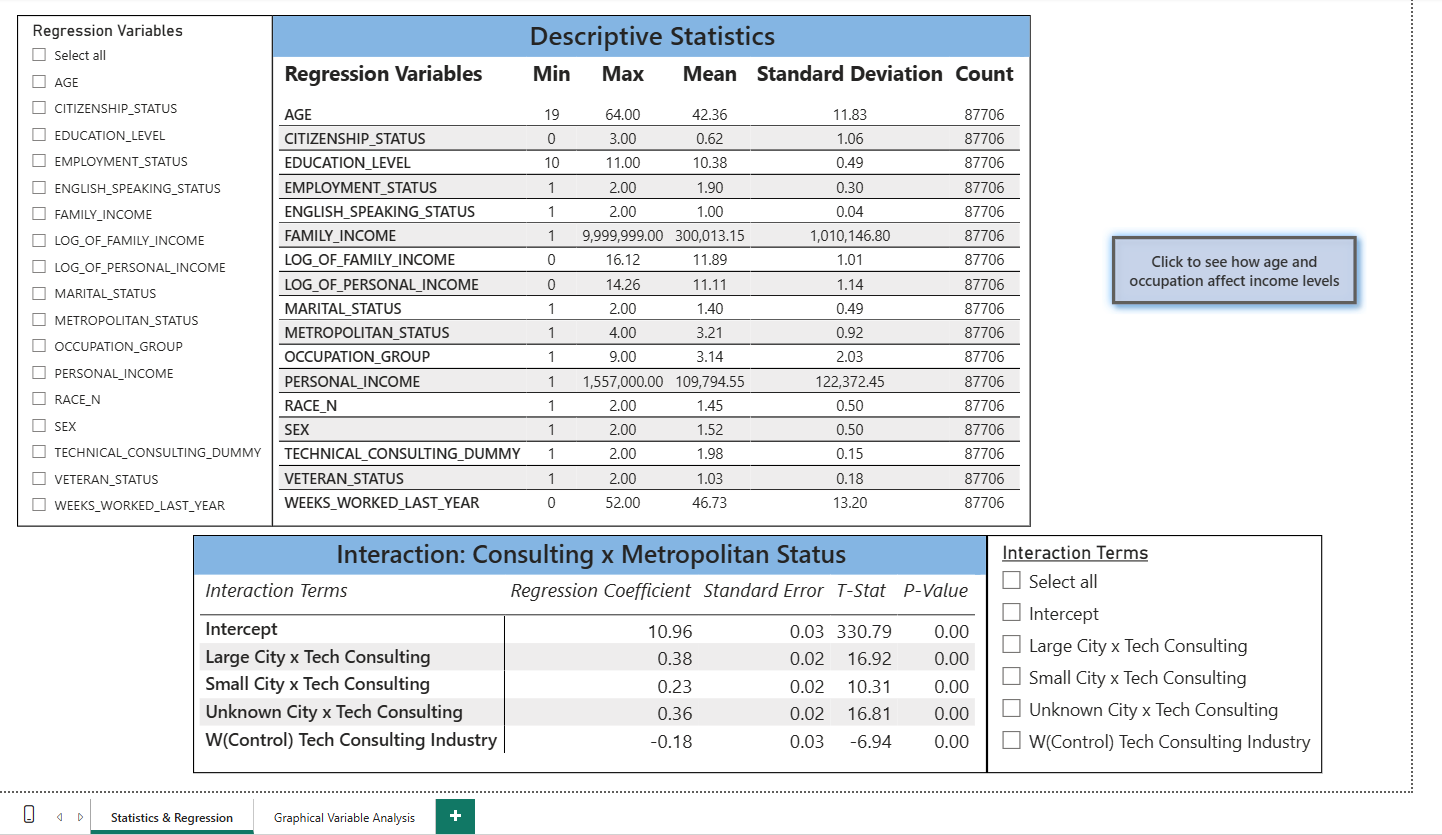

What the dashboard file says about the page in this screenshot:
{"tool":"powerbi","page":{"name":"Statistics & Regression","canvas":[1280,720],"ordinal":0},"visuals":[{"type":"pivotTable","title":"Descriptive Statistics","fields":{"Rows":["usa_summary (2).Column1"],"Values":["Sum(usa_summary (2).min)","Sum(usa_summary (2).max)","Sum(usa_summary (2).mean)","Sum(usa_summary (2).std_dev)","Sum(usa_summary (2).count)"]},"box":[248,16,688,464],"z":0},{"type":"slicer","fields":{"Values":["usa_summary (2).Regression Variables"]},"box":[16,16,232,464],"z":1000},{"type":"slicer","fields":{"Values":["Regression_Results.Interaction Terms"]},"box":[896,488,304,216],"z":2000},{"type":"pivotTable","title":"Interaction: Consulting x Metropolitan Status","fields":{"Rows":["Regression_Results.Interaction Terms"],"Values":["Sum(Regression_Results.Coefficient)","Sum(Regression_Results.Std_Error)","Sum(Regression_Results.t_value)","Sum(Regression_Results.p_value)"]},"box":[176,488,720,216],"z":3000},{"type":"actionButton","box":[1000,208,240,80],"z":3001}]}

Visuals, with their boxes in screenshot pixels (x1, y1, x2, y2):
"Descriptive Statistics" pivotTable: 268 7 1032 522
slicer - usa_summary (2).Regression Variables: 10 7 268 522
slicer - Regression_Results.Interaction Terms: 988 531 1326 771
"Interaction: Consulting x Metropolitan Status" pivotTable: 188 531 988 771
actionButton: 1103 220 1370 309
